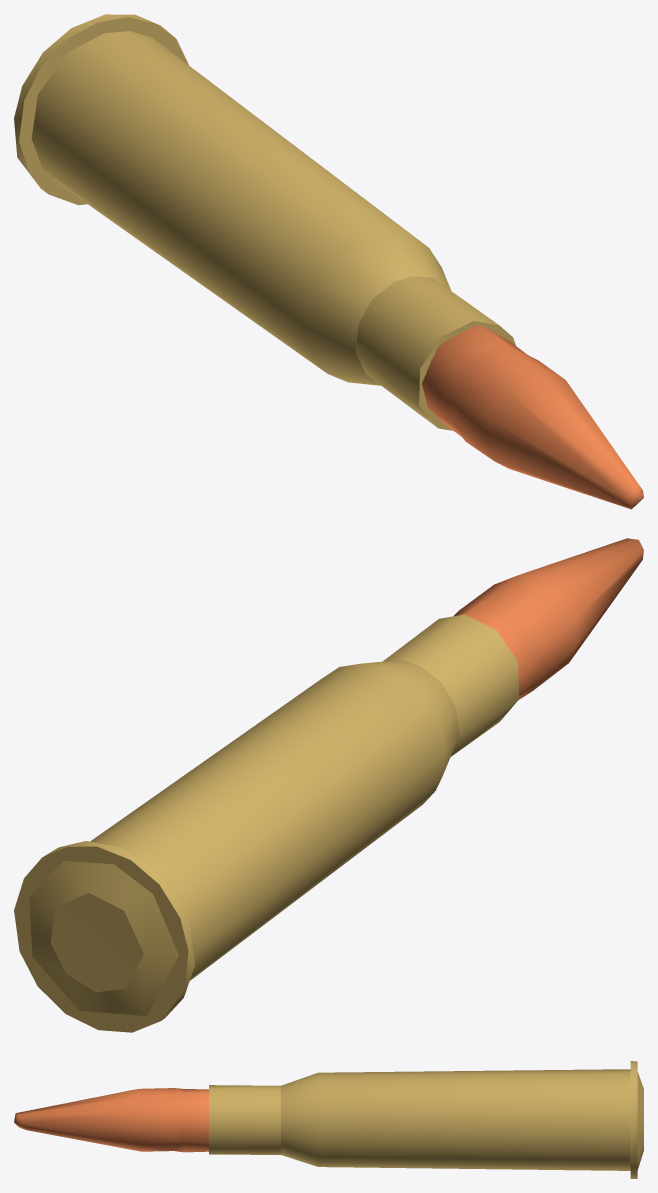
The model's file is SM_AWP_Bullet.fbx.
3 renders of one model, top to bottom at view 1: azimuth 30°, elevation 25°; view 2: azimuth 150°, elevation 25°; view 3: azimuth 270°, elevation 25°, orthographic. The views are drawn at different scales.
Parts seen in each view (by area): view 1: Bullet.001; view 2: Bullet.001; view 3: Bullet.001.
Part boxes in pixels (left/top/right/bottom): Bullet.001: left=14, top=14, right=643, bottom=509; Bullet.001: left=14, top=538, right=643, bottom=1032; Bullet.001: left=14, top=1061, right=643, bottom=1178.
Size of the model in its own units: 1.37 by 1.37 by 7.34.
